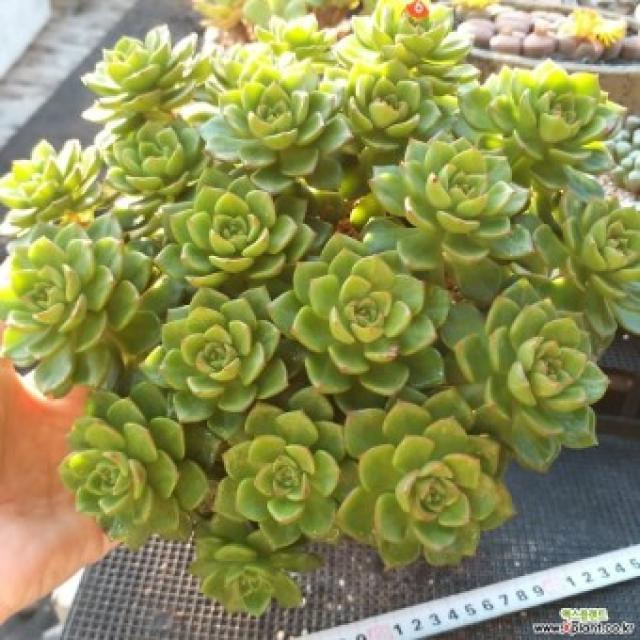Letizia: (441, 279, 609, 471), (4, 215, 182, 394), (338, 388, 509, 567), (272, 234, 450, 396), (362, 140, 534, 304), (60, 381, 209, 547), (141, 288, 288, 441), (214, 388, 345, 548), (155, 168, 331, 286), (201, 61, 350, 193)
